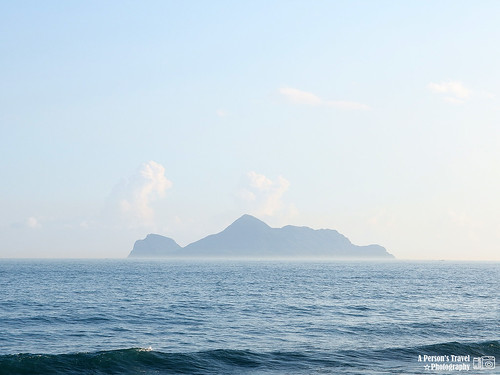turtleIslandLeft: (126, 214, 396, 260)
